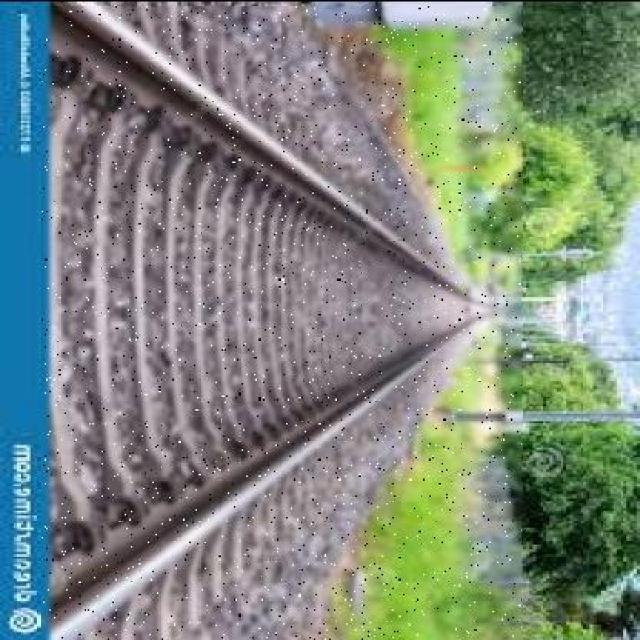rail: (41, 6, 522, 640)
